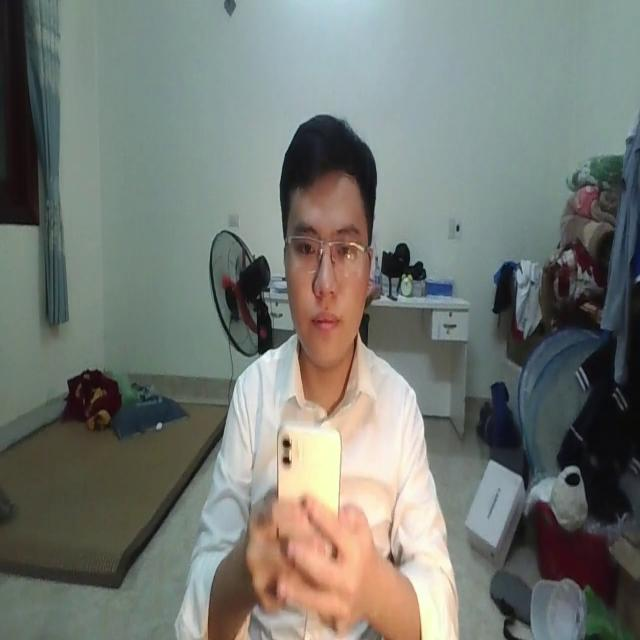phone: (276, 420, 339, 587)
student: (175, 110, 457, 640)
